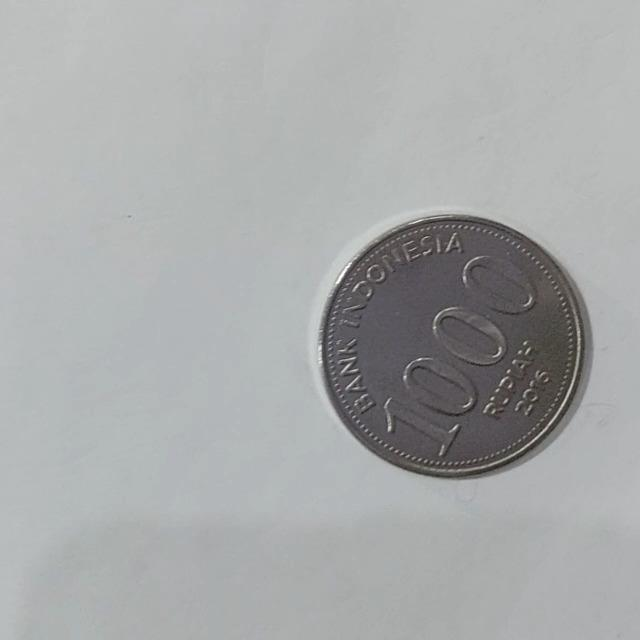Rp100: (317, 210, 590, 479)
